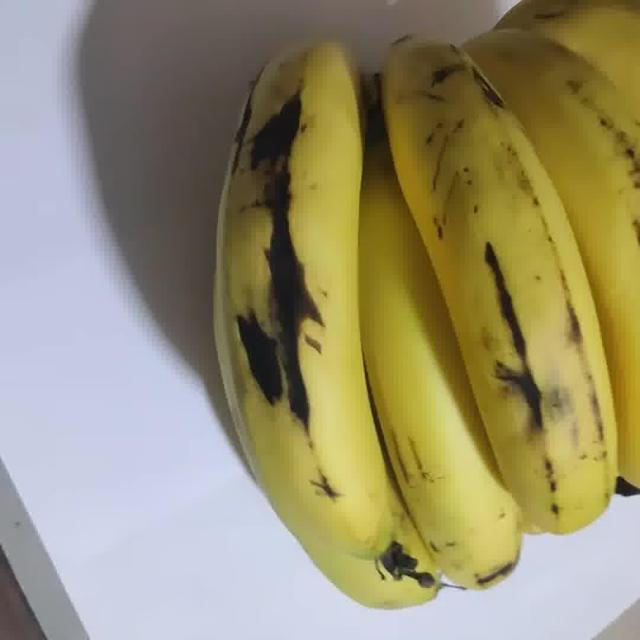Banana: (214, 0, 639, 608)
